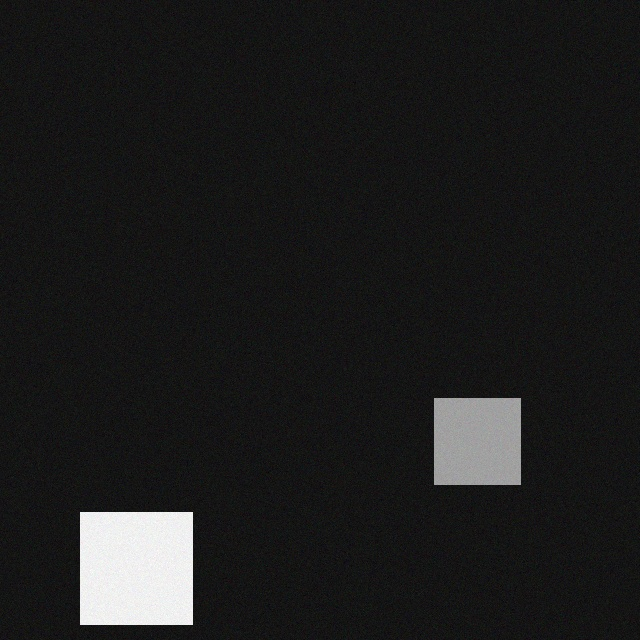square: (75, 498, 187, 610), (429, 384, 515, 470)
